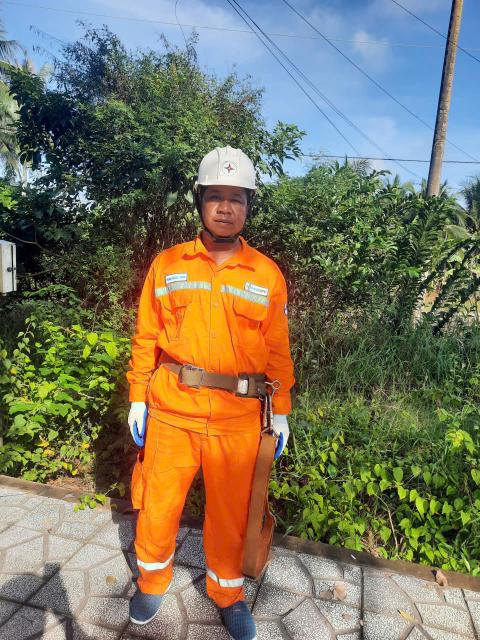gloves: (120, 402, 159, 447), (265, 409, 294, 461)
harness: (135, 336, 278, 407)
helmet: (191, 138, 271, 200)
shoes: (210, 585, 276, 640), (119, 570, 167, 630)
